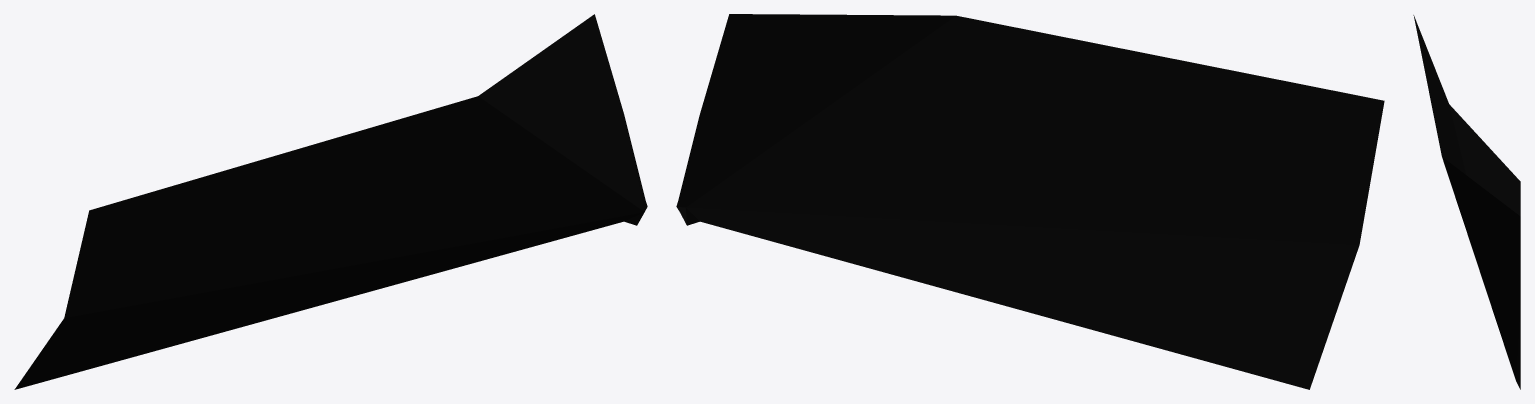
3 renders of one model, left to right at view 1: azimuth 30°, elevation 25°; view 2: azimuth 150°, elevation 25°; view 3: azimuth 270°, elevation 25°, orthographic. The views are drawn at different scales.
Bounding box in the file's own units: 0.3387 × 0.1198 × 0.0694.
1 material, 1 textured.
